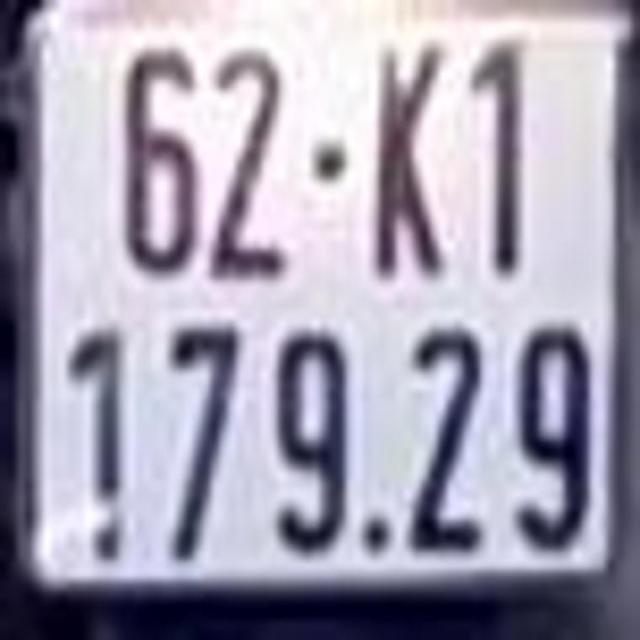1: (64, 324, 132, 567), (466, 28, 528, 286)
2: (208, 37, 290, 286), (400, 316, 483, 550)
6: (114, 36, 202, 274)
7: (152, 316, 241, 562)
9: (268, 323, 350, 554), (513, 315, 592, 551)
K: (369, 28, 449, 290)
